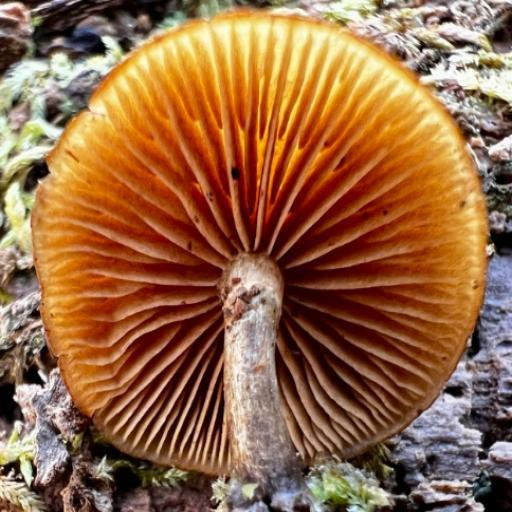mushroom: (21, 10, 503, 485)
